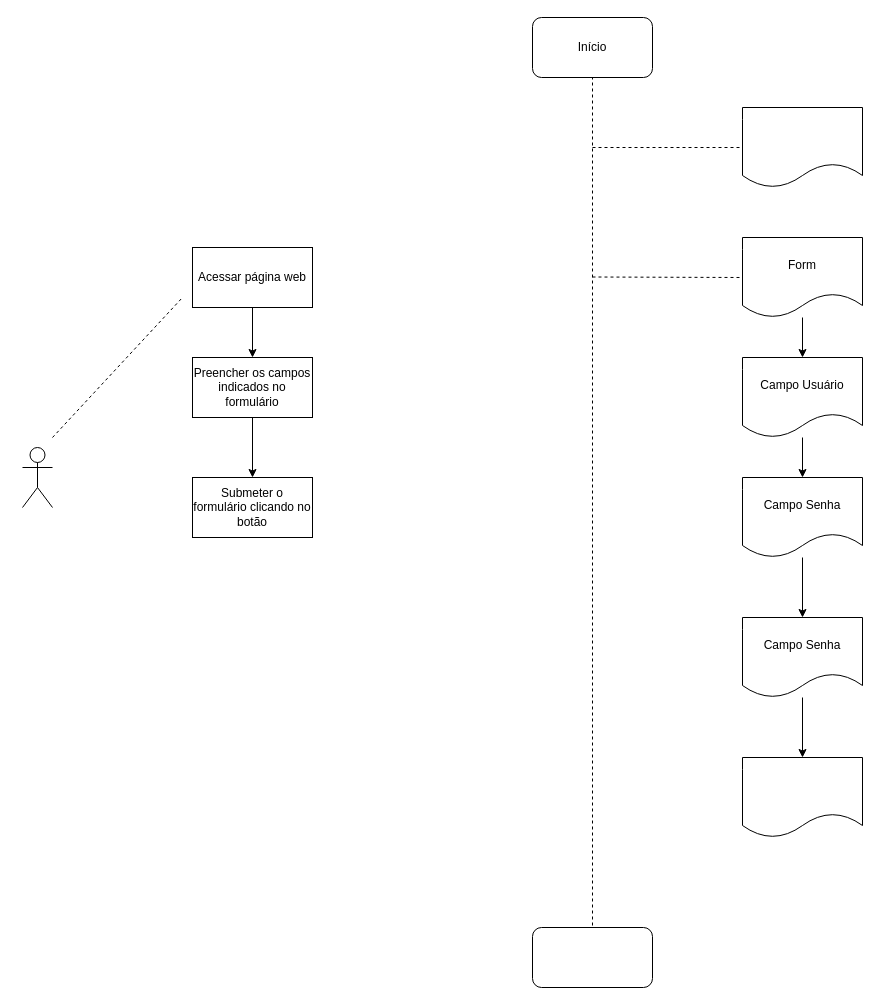
Image size: 880x1005. Some labels were removed from this diagram. Here are the shapes that lost their labels. From the top down, the box of each, then its label:
(742, 106, 862, 188): Titulo Página
(22, 446, 52, 508): Usuário
(742, 756, 862, 838): Button Submit
(532, 926, 652, 988): Fim
